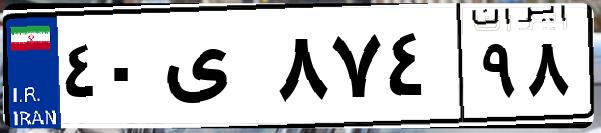0: (110, 28, 158, 98)
4: (385, 28, 445, 110), (57, 26, 110, 100)
7: (330, 28, 385, 110)
8: (270, 28, 330, 110), (525, 38, 570, 115)
9: (475, 38, 525, 113)
ی: (158, 20, 270, 120)
